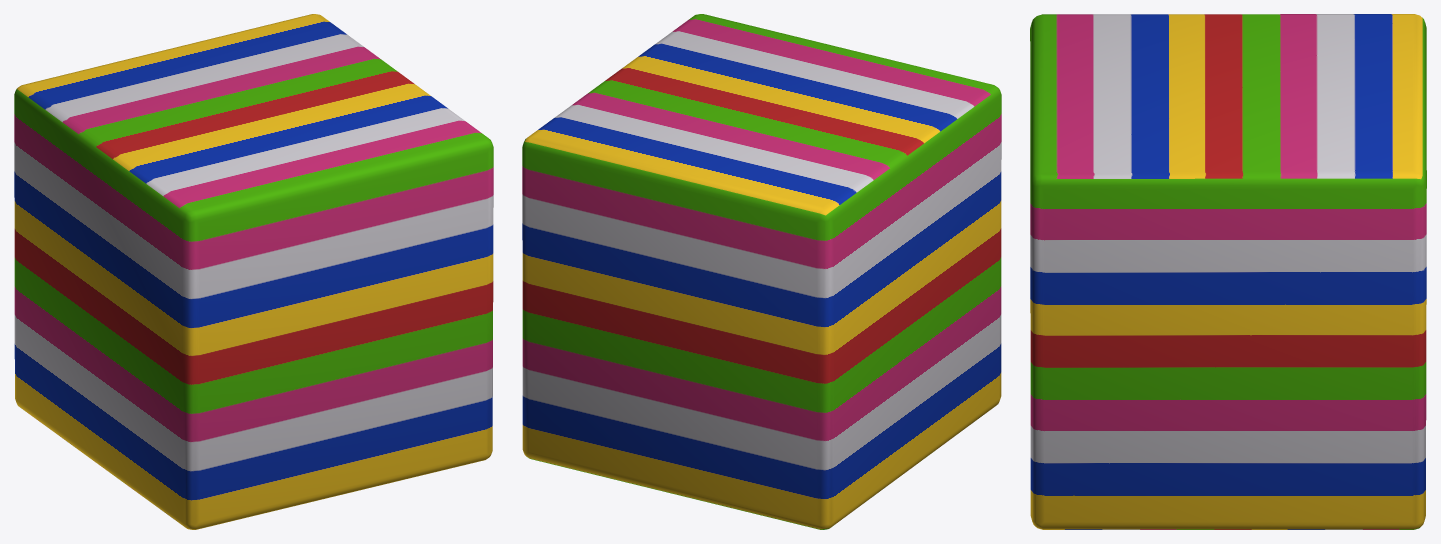
The model's file is A-6_Onstick.fbx.
3 renders of one model, left to right at view 1: azimuth 30°, elevation 25°; view 2: azimuth 150°, elevation 25°; view 3: azimuth 270°, elevation 25°, orthographic. The views are drawn at different scales.
Visible parts, largest first — view 1: A-6; view 2: A-6; view 3: A-6.
Boxes of the visible parts, box(x1,y1,x2,y2) form: A-6: box(14, 14, 493, 529); A-6: box(522, 14, 1001, 529); A-6: box(1030, 14, 1426, 529).
Size of the model in its own units: 83.72 by 83.71 by 83.45.
